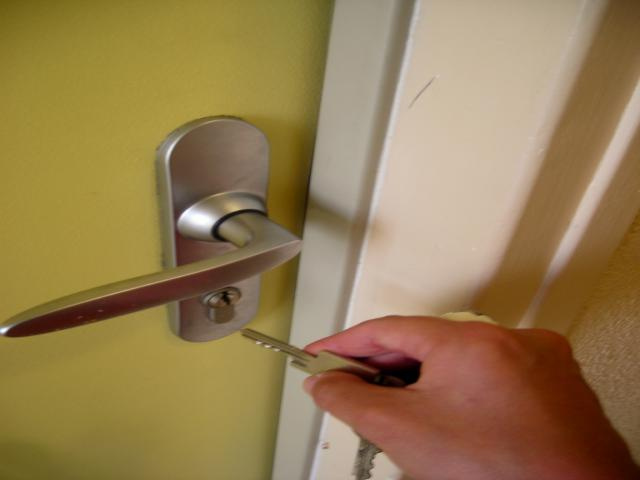Door-handle: (0, 115, 304, 342)
